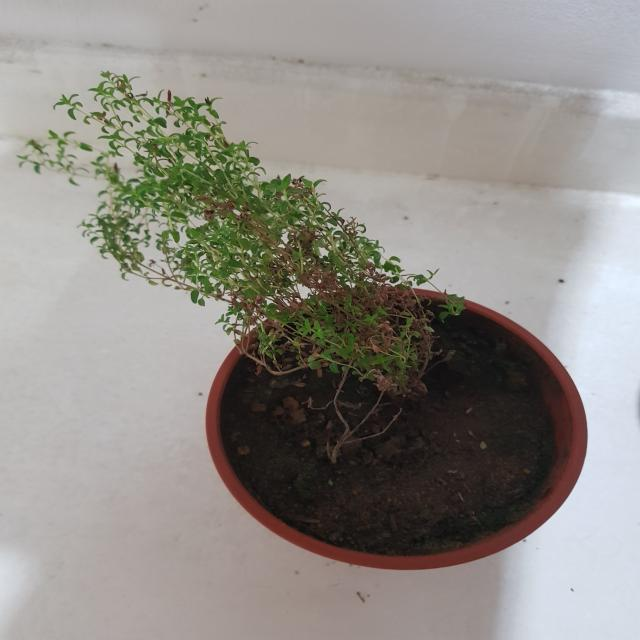Thyme: (12, 67, 466, 400)
